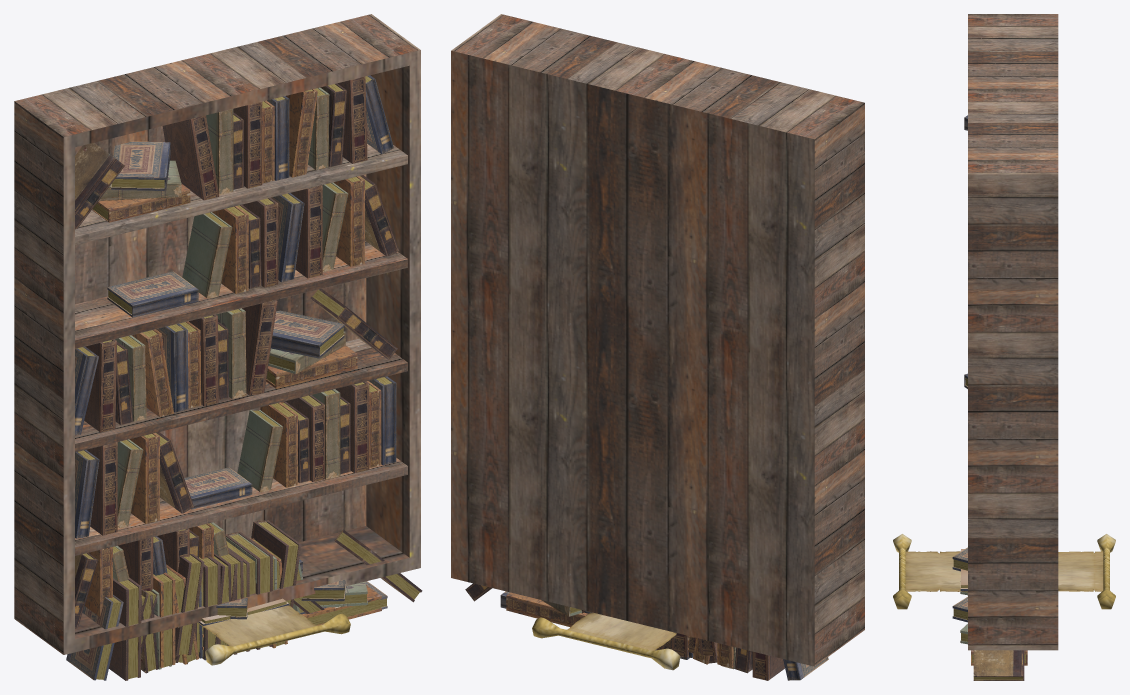
Rendered from Books.fbx.
The picture shows the model from 3 angles, left to right: view 1: azimuth 30°, elevation 25°; view 2: azimuth 150°, elevation 25°; view 3: azimuth 270°, elevation 25°; orthographic projection. The views are drawn at different scales.
Parts seen in each view (by area): view 1: Bookshelf, Bookshelf_filled, book_line_6, Scroll_Open1, book_line_7, book_line_5, book_line_2, book_line_4; view 2: Bookshelf, Scroll_Open1, book_line_6, book_line_7; view 3: Bookshelf, Scroll_Open1, book_line_6.
Boxes of the visible parts, bbox=[...] form: Bookshelf: bbox=[14, 14, 420, 654]; Bookshelf_filled: bbox=[75, 75, 399, 628]; book_line_6: bbox=[66, 520, 422, 680]; Scroll_Open1: bbox=[198, 605, 350, 665]; book_line_7: bbox=[141, 538, 387, 667]; book_line_5: bbox=[175, 554, 324, 656]; book_line_2: bbox=[175, 531, 272, 664]; book_line_4: bbox=[214, 538, 287, 650]; Bookshelf: bbox=[451, 14, 864, 666]; Scroll_Open1: bbox=[532, 612, 680, 670]; book_line_6: bbox=[465, 583, 828, 680]; book_line_7: bbox=[500, 591, 752, 667]; Bookshelf: bbox=[968, 14, 1058, 650]; Scroll_Open1: bbox=[893, 534, 1115, 609]; book_line_6: bbox=[952, 597, 1027, 680].
Size of the model in its own units: 1.17 by 1.76 by 0.6812.
8 materials, 8 textured.
